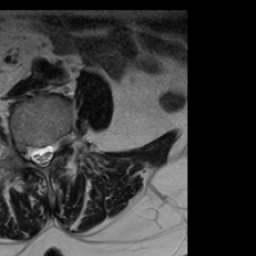CCS_normal: (38, 136, 46, 173)
LFS_normal: (55, 127, 64, 159)
LLS_normal: (46, 136, 55, 166)
RFS_normal: (20, 133, 30, 168)
RLS_normal: (30, 136, 38, 170)
